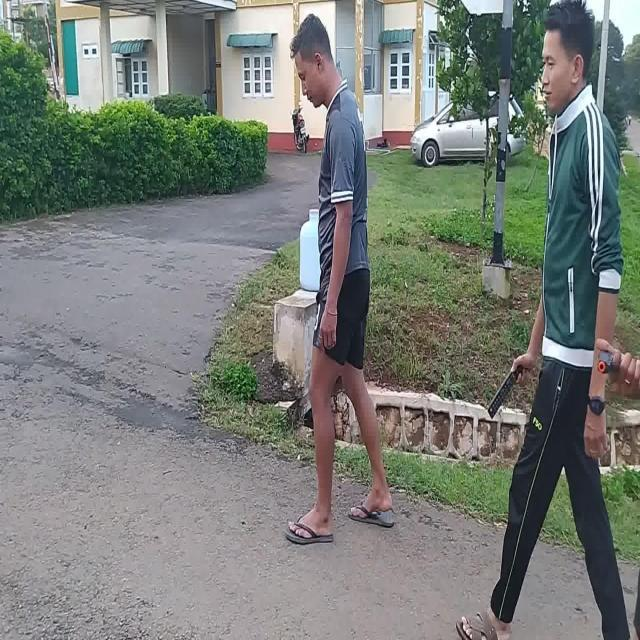gun: (597, 349, 613, 373)
